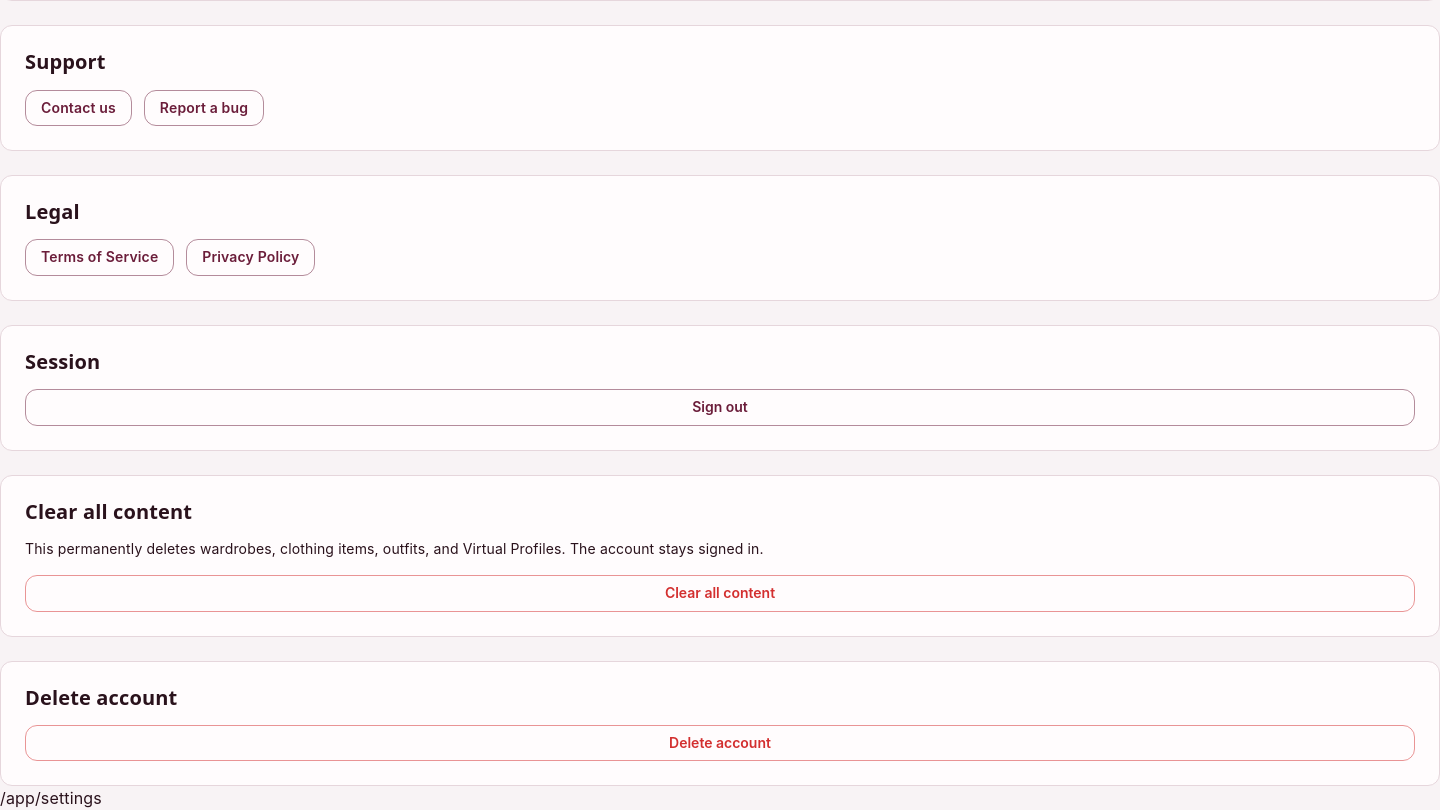
Test: SettingsPage › signs out, goes to login, and shows try again when DELETE /me returns 503 BILLING_CANCEL_FAILED
(page scrolled)
Click the button with aria-label "Delete this account" at (720,743), box [25,725,1415,762]
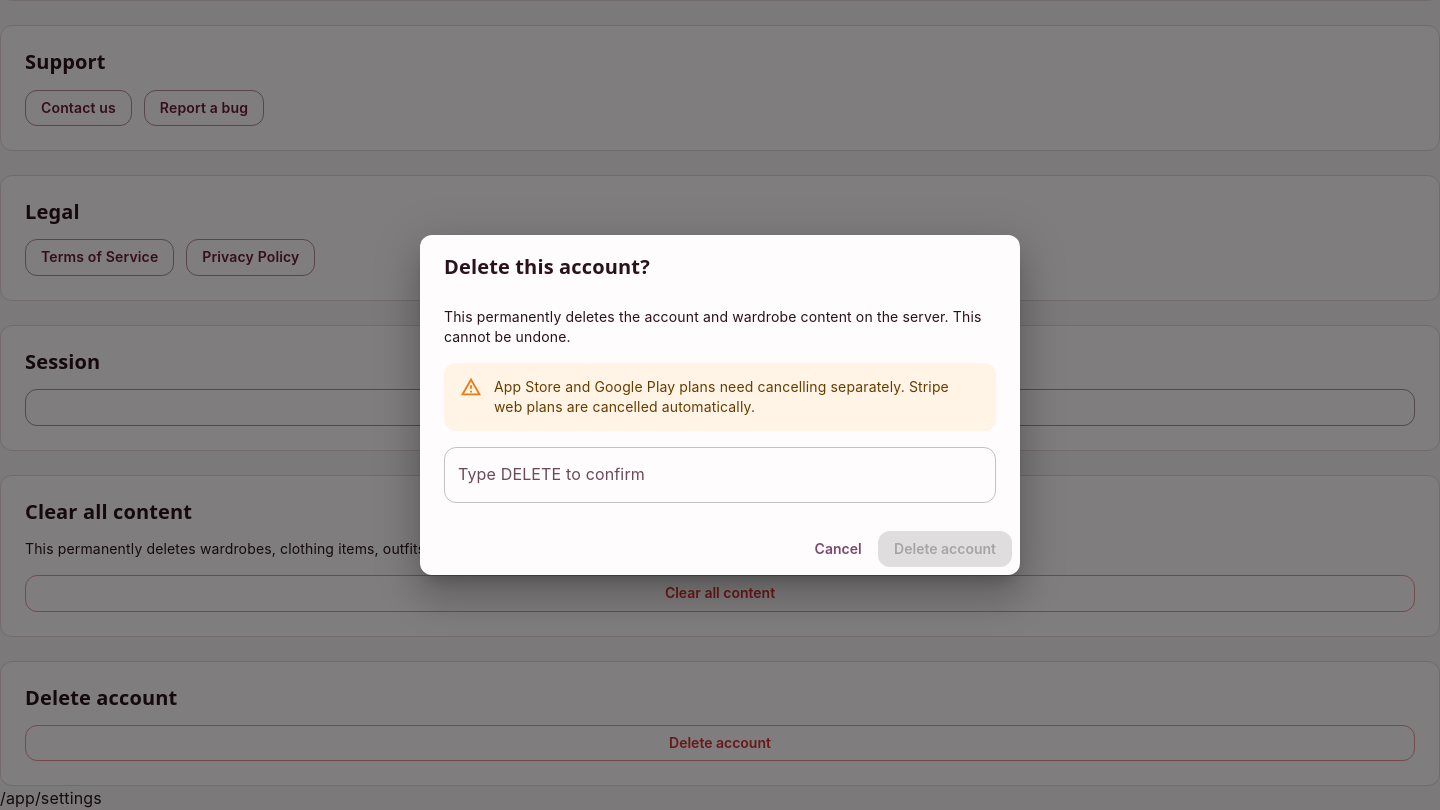
Type "DELETE" into the field labelled "Type DELETE to confirm" at (720,475), box [444,447,996,503]
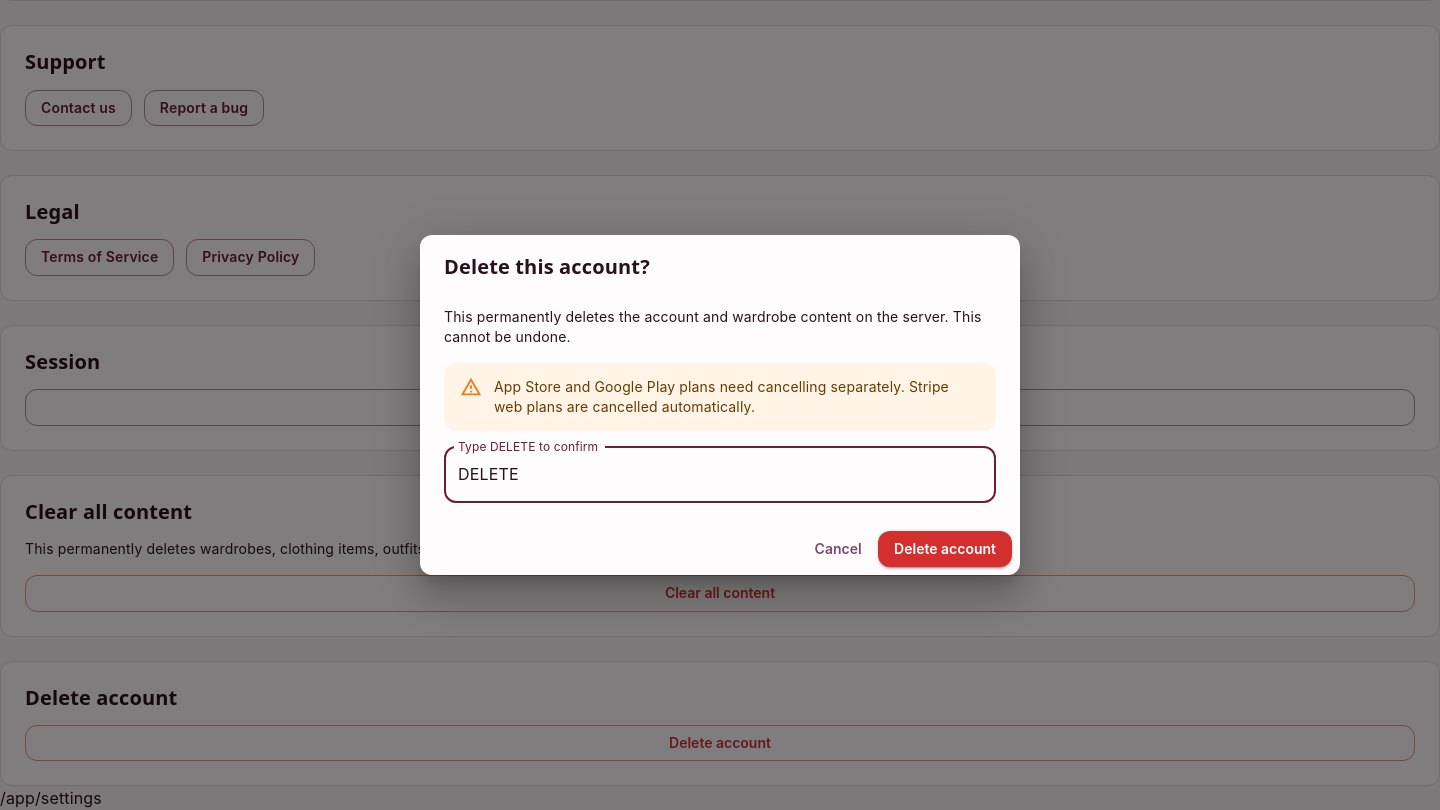
Click the button "Delete account" at (945,549), box [878,531,1012,567]
(page scrolled)
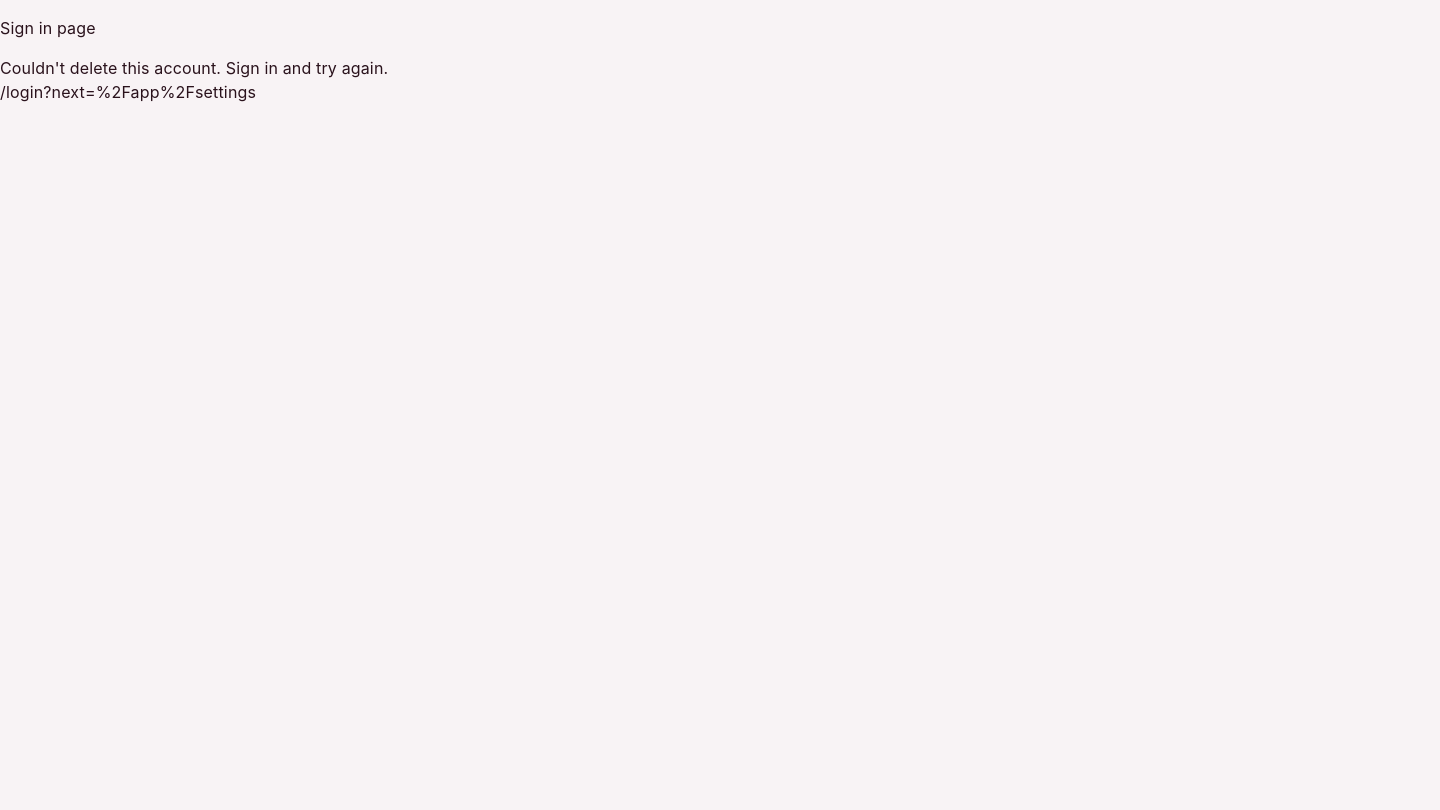
Expected: the text "Sign in page" is shown, [0,18,96,38]
Expected: the message reads "Couldn't delete this account. Sign in and try again.", [0,58,388,78]
Expected: the text with test id "route-location" reads "/login?next=%2Fapp%2Fsettings", [0,82,256,102]
